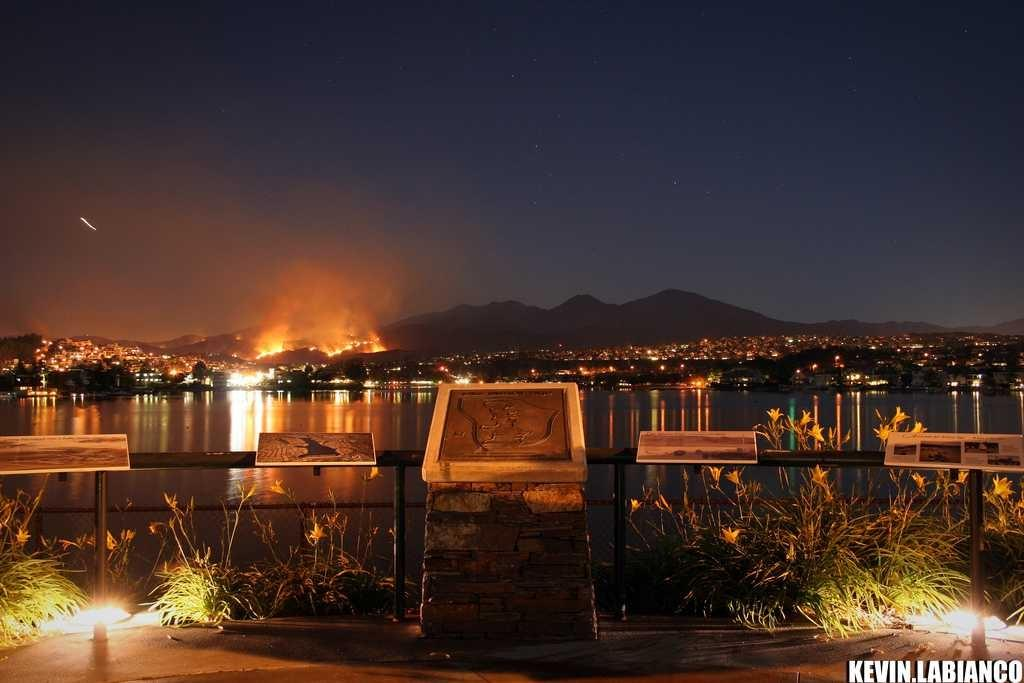fire: (255, 342, 285, 356), (329, 342, 350, 357), (367, 337, 386, 353)
smoke: (270, 269, 371, 331)
